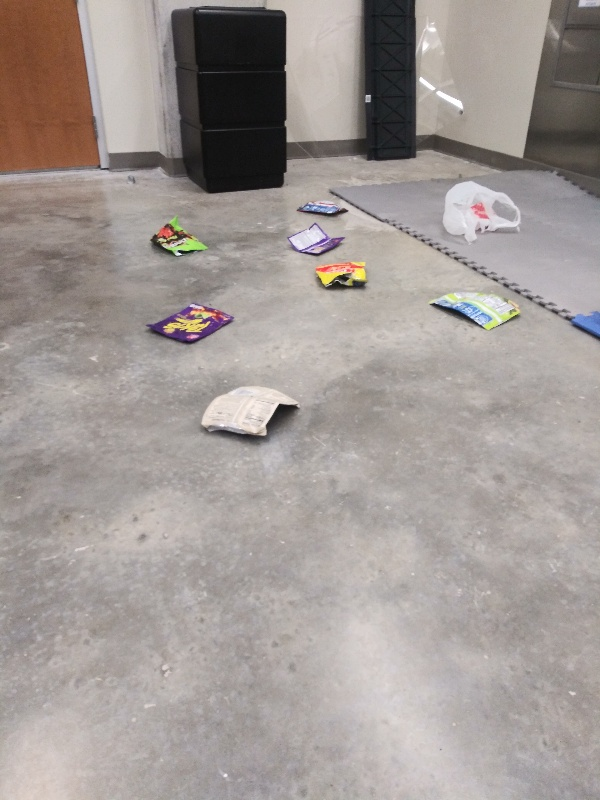bag: (196, 382, 305, 440), (422, 288, 526, 334), (144, 301, 243, 349), (147, 212, 215, 259), (283, 221, 348, 258), (312, 257, 372, 289), (292, 197, 353, 220)
